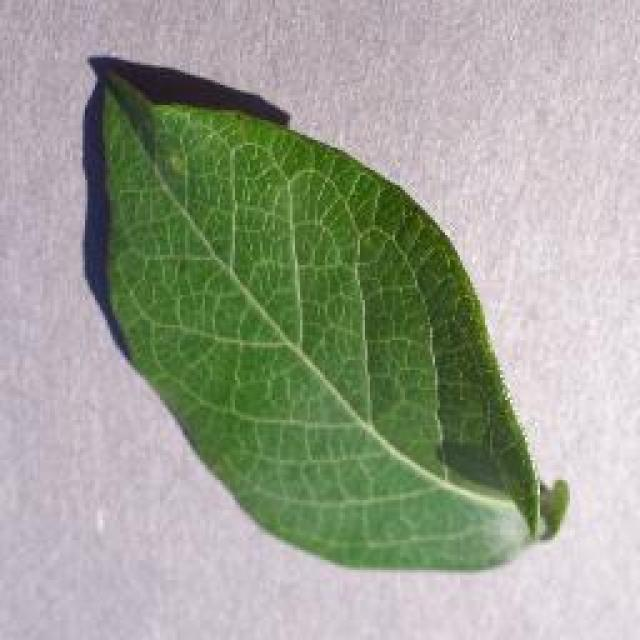Blu_healthy: (142, 175, 480, 521)
